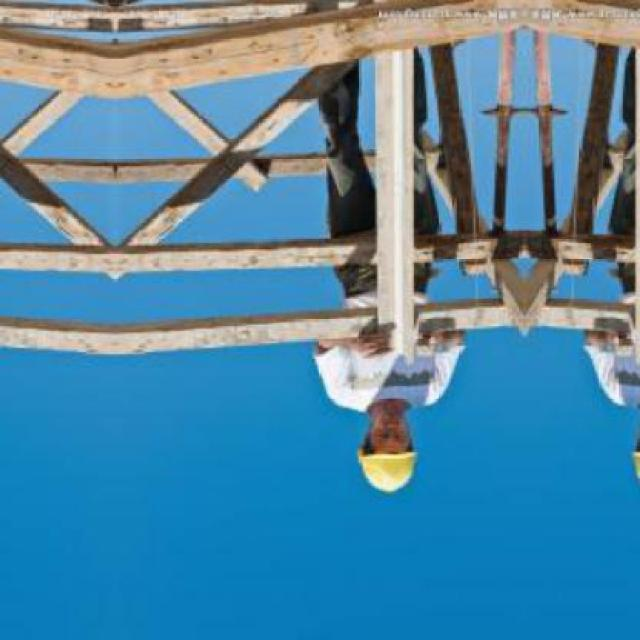safetyhelmet: (353, 408, 416, 498)
